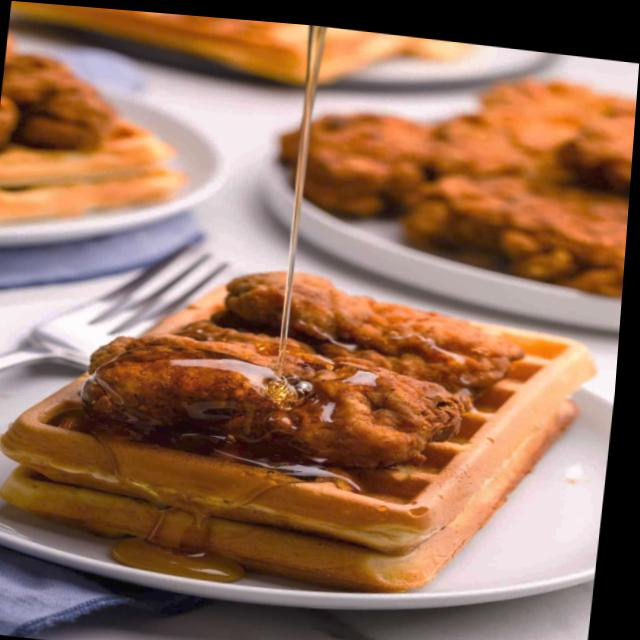chicken waffle: (0, 239, 599, 608)
